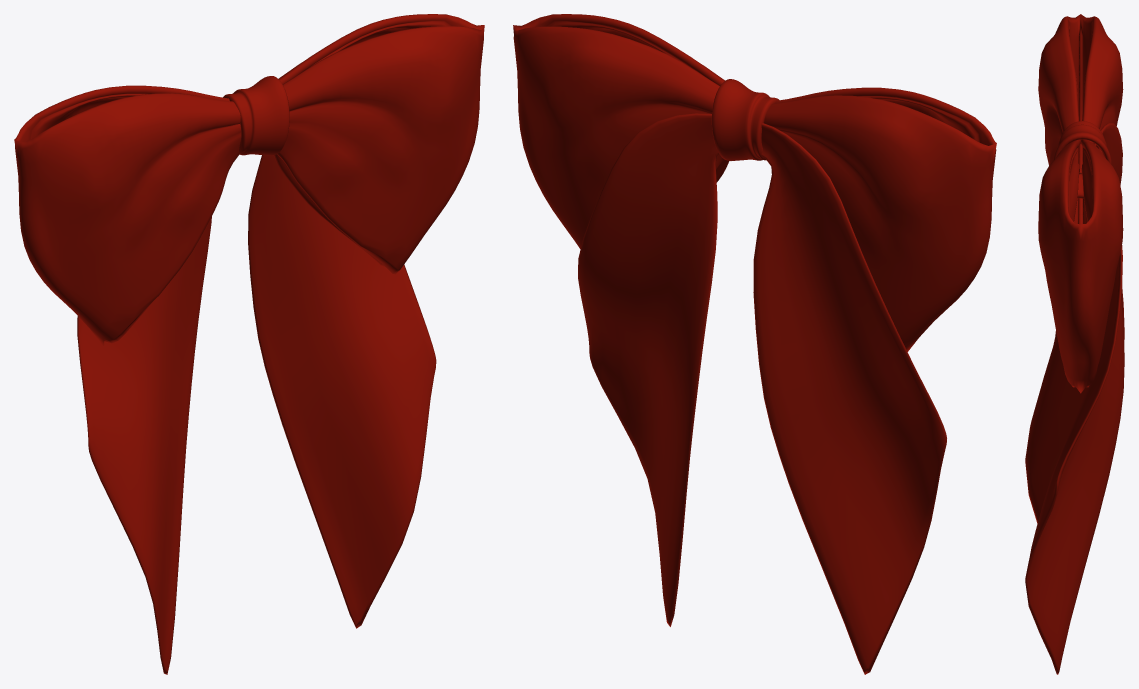
The model's file is uploads_files_4171582_Bow+Ribbon.fbx.
The picture shows the model from 3 angles, left to right: view 1: azimuth 30°, elevation 25°; view 2: azimuth 150°, elevation 25°; view 3: azimuth 270°, elevation 25°; orthographic projection. The views are drawn at different scales.
Visible parts, largest first — view 1: Bow Ribbon Backup; view 2: Bow Ribbon Backup; view 3: Bow Ribbon Backup.
Part boxes in pixels (x1,y1,x2,y2): Bow Ribbon Backup: [14, 14, 484, 674]; Bow Ribbon Backup: [513, 14, 996, 674]; Bow Ribbon Backup: [1025, 14, 1124, 674].
Size of the model in its own units: 296 by 350 by 59.15.
